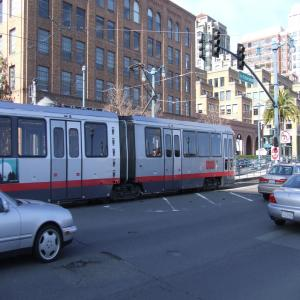Vehicle-registration-plate: (283, 212, 295, 222)
